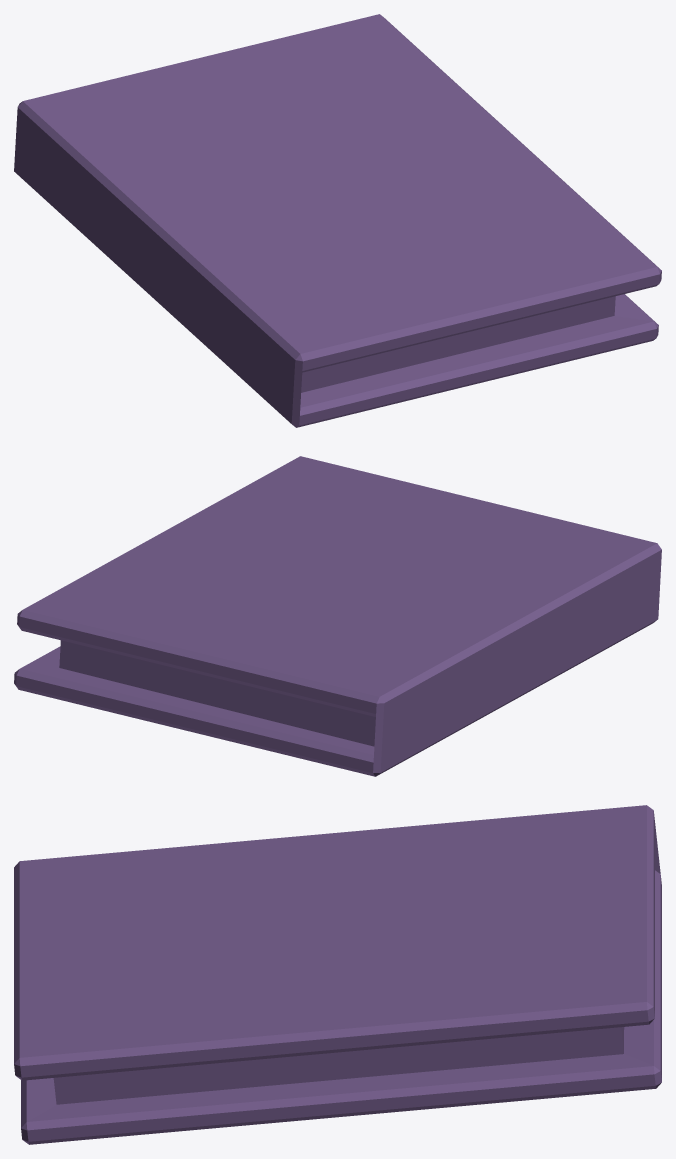
Rendered from vanessaNotebook.fbx.
The picture shows the model from 3 angles, top to bottom: view 1: azimuth 30°, elevation 25°; view 2: azimuth 150°, elevation 25°; view 3: azimuth 270°, elevation 25°; orthographic projection. The views are drawn at different scales.
Visible parts, largest first — view 1: vanessaNotebook; view 2: vanessaNotebook; view 3: vanessaNotebook.
Boxes of the visible parts, x1=… form: vanessaNotebook: x1=14, y1=14, x2=661, y2=427; vanessaNotebook: x1=14, y1=456, x2=661, y2=776; vanessaNotebook: x1=14, y1=805, x2=661, y2=1144.
Bounding box in the file's own units: 19.2 × 6.34 × 26.02.
